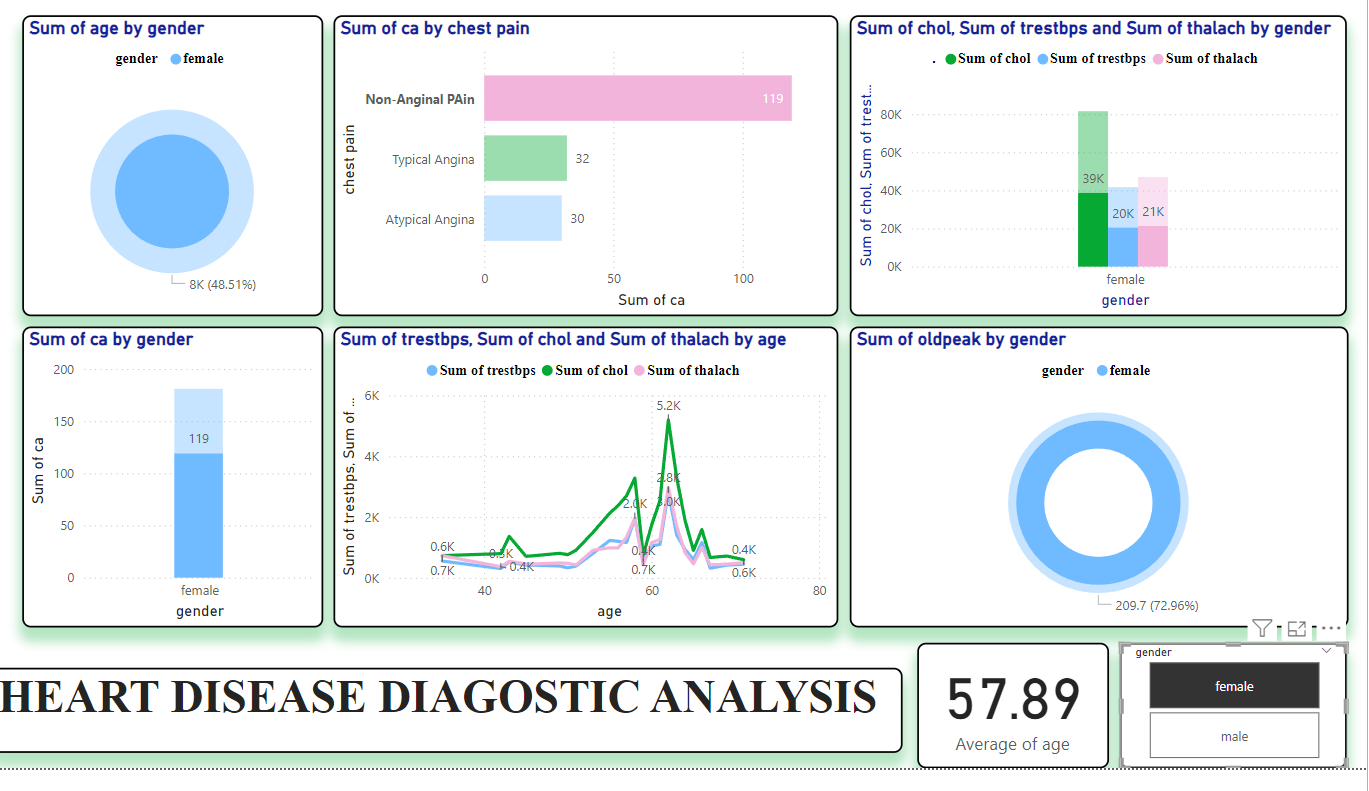

What the dashboard file says about the page in this screenshot:
{"tool":"powerbi","page":{"name":"Page 1","canvas":[1280,720],"ordinal":0},"visuals":[{"type":"pieChart","fields":{"Category":["Heart Disease data.gender "],"Y":["Sum(Heart Disease data.age)"]},"box":[28.8,19.2,279.9,279.9],"z":0},{"type":"clusteredColumnChart","fields":{"Y":["Sum(Heart Disease data.ca)"],"Category":["Heart Disease data.gender "]},"box":[29,309,280,280],"z":1000},{"type":"barChart","fields":{"Category":["Heart Disease data.chest pain"],"Y":["Sum(Heart Disease data.ca)"]},"box":[318.4,19.2,469.3,279.9],"z":2000},{"type":"lineChart","fields":{"Category":["Heart Disease data.age"],"Y":["Sum(Heart Disease data.trestbps)","Sum(Heart Disease data.chol)","Sum(Heart Disease data.thalach)"]},"box":[318.4,308.7,469.3,279.9],"z":3000},{"type":"clusteredColumnChart","fields":{"Y":["Sum(Heart Disease data.chol)","Sum(Heart Disease data.trestbps)","Sum(Heart Disease data.thalach)"],"Category":["Heart Disease data.gender "]},"box":[798.6,19.2,462.4,279.9],"z":4000},{"type":"donutChart","fields":{"Category":["Heart Disease data.gender "],"Y":["Sum(Heart Disease data.oldpeak)"]},"box":[798.6,308.7,463.8,279.9],"z":5000},{"type":"slicer","fields":{"Values":["Heart Disease data.gender "]},"box":[1049.7,603.8,211.3,116.6],"z":6000},{"type":"card","fields":{"Values":["Avg(Heart Disease data.age)"]},"box":[861.8,603.8,178.4,116.6],"z":7000},{"type":"textbox","box":[0,627.1,848,79.6],"z":8000}]}

Visuals, with their boxes in screenshot pixels (x1, y1, x2, y2), scaled from the page's 1280x720 canvas onto the 1369x791 screenshot:
pieChart - Heart Disease data.gender  x Sum(Heart Disease data.age): BBox(31, 21, 330, 329)
clusteredColumnChart - Sum(Heart Disease data.ca) x Heart Disease data.gender : BBox(31, 339, 330, 647)
barChart - Heart Disease data.chest pain x Sum(Heart Disease data.ca): BBox(341, 21, 842, 329)
lineChart - Heart Disease data.age x Sum(Heart Disease data.trestbps): BBox(341, 339, 842, 647)
clusteredColumnChart - Sum(Heart Disease data.chol) x Sum(Heart Disease data.trestbps): BBox(854, 21, 1349, 329)
donutChart - Heart Disease data.gender  x Sum(Heart Disease data.oldpeak): BBox(854, 339, 1350, 647)
slicer - Heart Disease data.gender : BBox(1123, 663, 1349, 790)
card - Avg(Heart Disease data.age): BBox(922, 663, 1113, 790)
textbox: BBox(0, 689, 907, 776)
